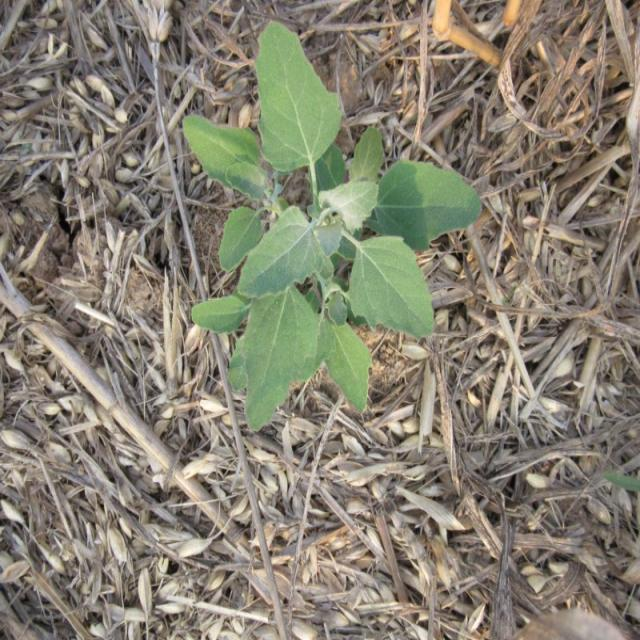ca: (182, 30, 481, 437)
